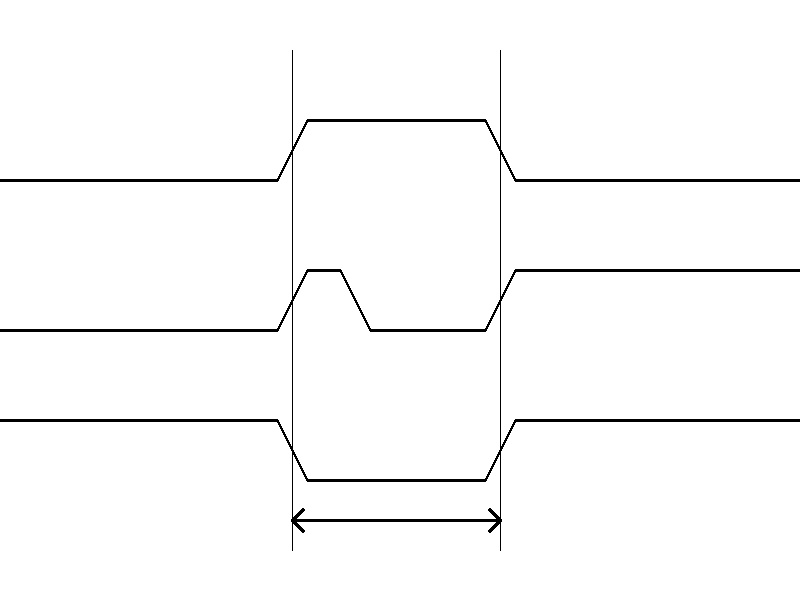double_arrow: (292, 505, 500, 535)
